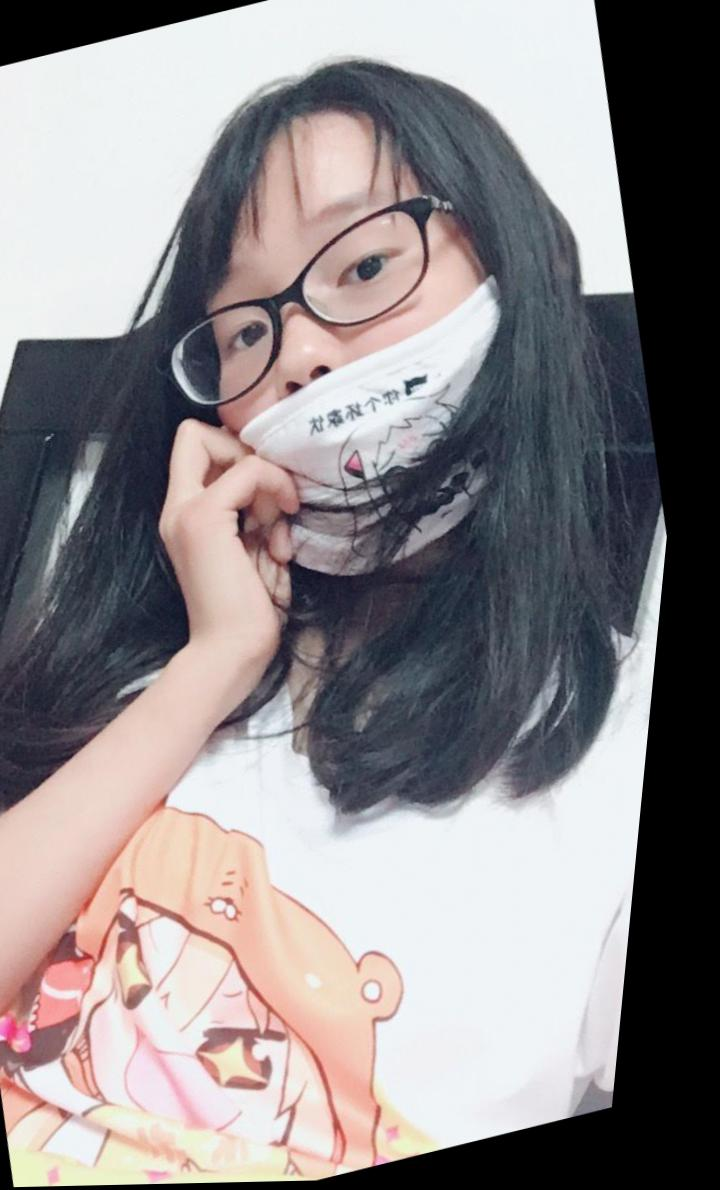WRONG: (154, 133, 563, 567)
